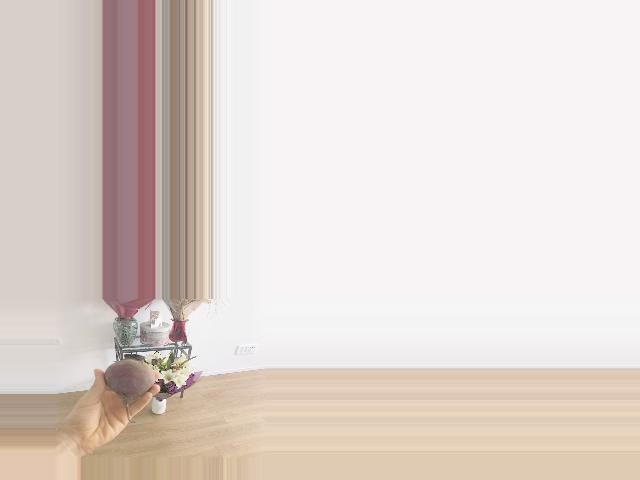beet: (104, 354, 156, 423)
